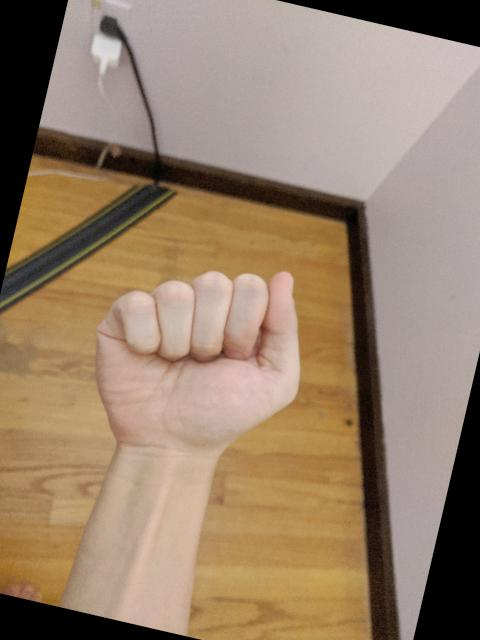A: (63, 227, 330, 493)
